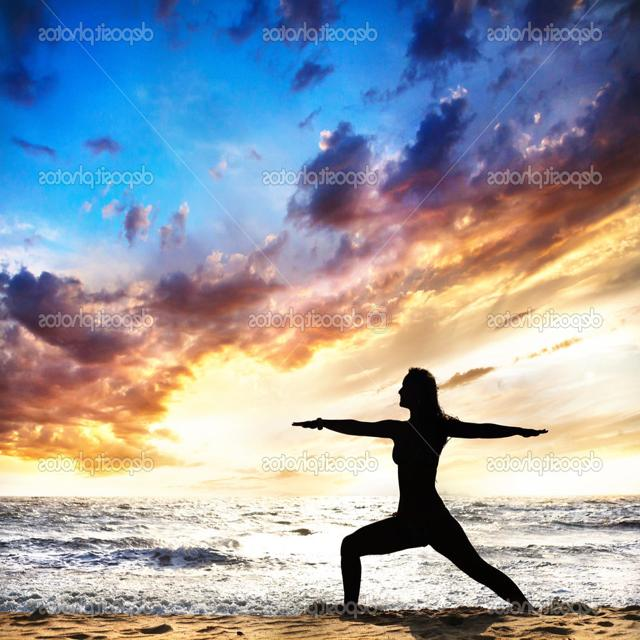Warrior_II: (293, 367, 550, 608)
